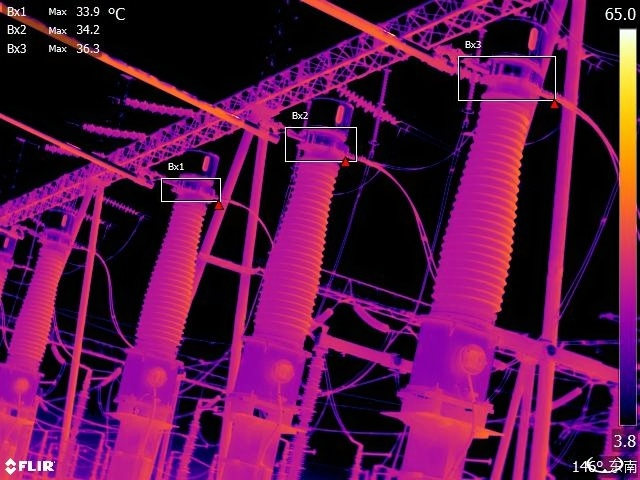current transformer: (389, 17, 563, 426), (229, 96, 364, 406), (110, 138, 228, 414), (1, 203, 83, 421)
insulator: (339, 85, 398, 129), (115, 97, 204, 118), (81, 120, 148, 143), (38, 144, 111, 161)
